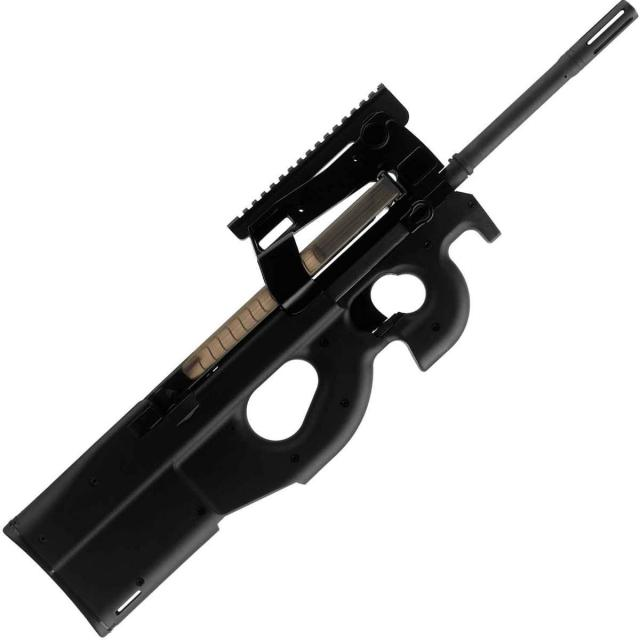SMG: (2, 0, 640, 640)
